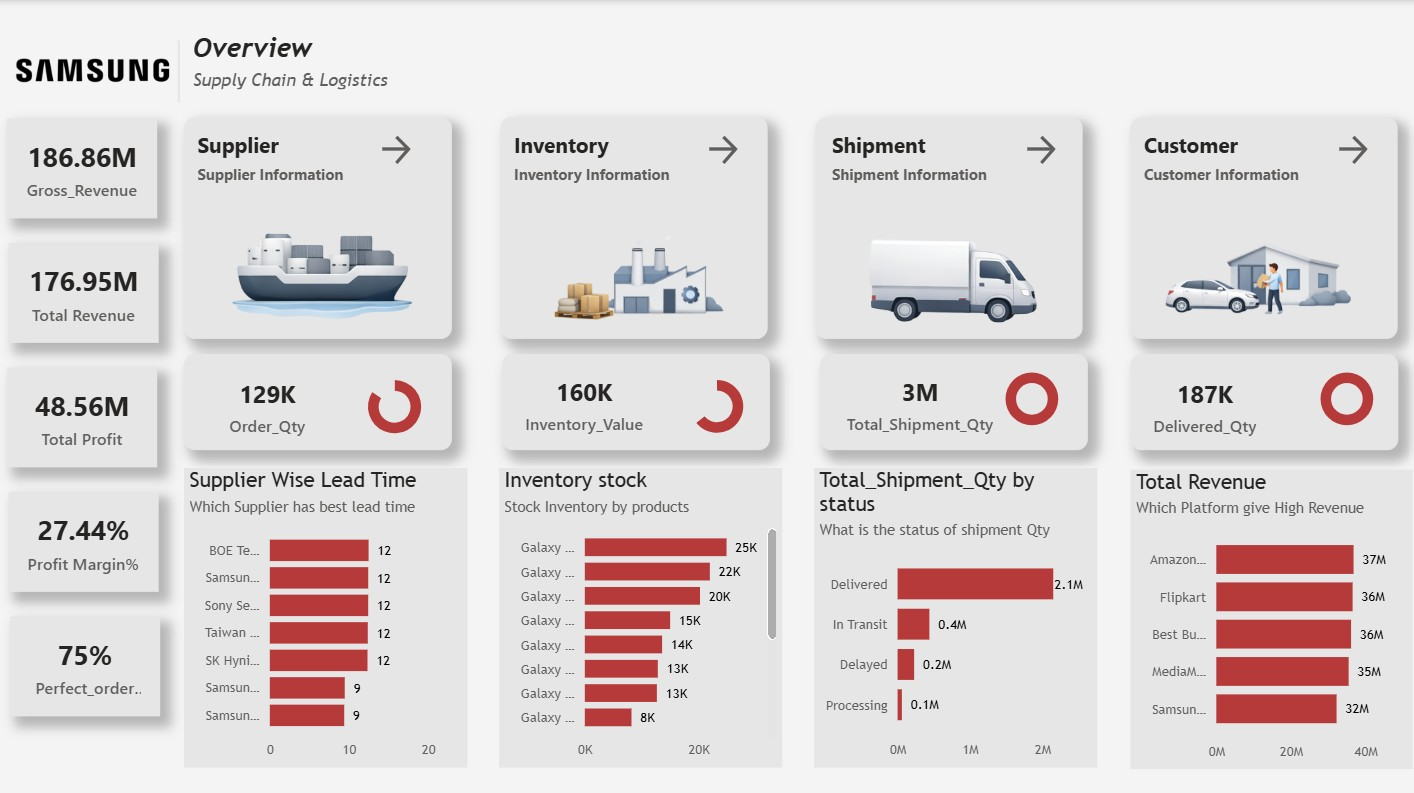

This screenshot's page, from the dashboard's own definition file:
{"tool":"powerbi","page":{"name":"Overview","canvas":[1280,720],"ordinal":0},"visuals":[{"type":"shape","box":[167.2,105.7,241.4,200],"z":0},{"type":"shape","box":[1020.7,105.9,240.8,200],"z":1000},{"type":"shape","box":[737.1,105.9,240.8,200],"z":2000},{"type":"shape","box":[452.4,105.9,240.8,200],"z":3000},{"type":"image","box":[187.7,179.9,200.4,119.9],"z":4000},{"type":"image","box":[471.7,186.2,200.4,119.9],"z":5000},{"type":"image","box":[758.9,186.2,200.4,119.9],"z":6000},{"type":"image","box":[1039.7,189.3,200.4,119.9],"z":7000},{"type":"actionButton","box":[1203.5,117.5,48,35],"z":8000},{"type":"actionButton","box":[921.8,117.5,48,35],"z":9000},{"type":"actionButton","box":[635.6,117.5,48,35],"z":10000},{"type":"actionButton","box":[340.4,117.5,48,35],"z":11000},{"type":"shape","title":"Supplier","box":[179.9,117.5,140.8,63.6],"z":12000},{"type":"shape","title":"Inventory","box":[464.5,117.5,171.1,63.6],"z":13000},{"type":"shape","title":"Shipment","box":[752.2,117.5,140.8,63.6],"z":14000},{"type":"shape","title":"Customer","box":[1032.4,117.5,140.8,63.6],"z":15000},{"type":"shape","title":"Overview","box":[175.6,28.8,196.8,72.7],"z":16000},{"type":"shape","box":[68.1,36.3,190.8,56],"z":17000},{"type":"image","box":[0,24.2,163.5,77.2],"z":18000},{"type":"cardVisual","fields":{"Data":["MeasuresTable.Total Revenue"]},"box":[9.5,218.8,135,90],"z":19000},{"type":"cardVisual","fields":{"Data":["MeasuresTable.Total Profit"]},"box":[8.2,331.2,135,90],"z":20000},{"type":"cardVisual","fields":{"Data":["MeasuresTable.Profit Margin%"]},"box":[8.8,443.7,135,90],"z":21000},{"type":"cardVisual","fields":{"Data":["MeasuresTable.Perfect_order%"]},"box":[10.2,556.2,135,90],"z":22000},{"type":"cardVisual","fields":{"Data":["MeasuresTable.Gross_Revenue"]},"box":[7.5,106.3,135,90],"z":23000},{"type":"shape","box":[167.4,318.7,241.5,86.5],"z":24000},{"type":"shape","box":[454.6,318.7,241.5,86.5],"z":25000},{"type":"shape","box":[740.2,318.7,241.5,86.5],"z":26000},{"type":"shape","box":[1020.9,318.7,241.5,86.5],"z":27000},{"type":"cardVisual","fields":{"Data":["MeasuresTable.Order_Qty"]},"box":[175.1,321.8,134.1,89.9],"z":28000},{"type":"cardVisual","fields":{"Data":["MeasuresTable.Inventory_Value"]},"box":[453.9,320.8,148.4,89.3],"z":29000},{"type":"cardVisual","fields":{"Data":["MeasuresTable.Total_Shipment_Qty"]},"box":[739.4,320.8,183,89.9],"z":30000},{"type":"cardVisual","fields":{"Data":["MeasuresTable.Delivered_Qty"]},"box":[1020.2,322.3,134.8,89.3],"z":31000},{"type":"clusteredBarChart","title":"Supplier Wise Lead Time","fields":{"Y":["MeasuresTable.Avg_lead_time"],"Category":["dim_supplier.supplier_name"]},"box":[167.2,421.2,255,270],"z":32000},{"type":"clusteredBarChart","title":"Inventory stock","fields":{"Category":["dim_product.product_name"],"Y":["MeasuresTable.Inventory_Value"]},"box":[451.6,421.8,255,270],"z":33000},{"type":"clusteredBarChart","fields":{"Y":["MeasuresTable.Total_Shipment_Qty"],"Category":["fact_shipment.status"]},"box":[735.9,422.3,255,270],"z":34000},{"type":"clusteredBarChart","title":"Total Revenue ","fields":{"Y":["MeasuresTable.Total Revenue"],"Category":["dim_customer.customer_name"]},"box":[1020.2,422.8,255,270],"z":35000},{"type":"donutChart","fields":{"Y":["MeasuresTable.Order_Qty","MeasuresTable.Defect_rate"]},"box":[309.2,331.3,95,70],"z":36000},{"type":"donutChart","fields":{"Y":["MeasuresTable.Inventory_Value","MeasuresTable.Saftey_Stock"]},"box":[599.5,331.3,94.7,69.4],"z":37000},{"type":"donutChart","fields":{"Y":["MeasuresTable.Total_Shipment_Qty"]},"box":[883.5,325,94.7,69.4],"z":38000},{"type":"donutChart","fields":{"Y":["MeasuresTable.Delivered_Qty"]},"box":[1167.5,325,94.7,69.4],"z":39000}]}

Visuals, with their boxes in screenshot pixels (x1, y1, x2, y2), scaled from the page's 1280x720 canvas onto the 1414x793 screenshot:
shape: 185, 116, 451, 337
shape: 1128, 117, 1394, 337
shape: 814, 117, 1080, 337
shape: 500, 117, 766, 337
image: 207, 198, 429, 330
image: 521, 205, 742, 337
image: 838, 205, 1060, 337
image: 1149, 208, 1370, 341
actionButton: 1329, 129, 1383, 168
actionButton: 1018, 129, 1071, 168
actionButton: 702, 129, 755, 168
actionButton: 376, 129, 429, 168
"Supplier" shape: 199, 129, 354, 199
"Inventory" shape: 513, 129, 702, 199
"Shipment" shape: 831, 129, 986, 199
"Customer" shape: 1140, 129, 1296, 199
"Overview" shape: 194, 32, 411, 112
shape: 75, 40, 286, 102
image: 0, 27, 181, 112
cardVisual - MeasuresTable.Total Revenue: 10, 241, 160, 340
cardVisual - MeasuresTable.Total Profit: 9, 365, 158, 464
cardVisual - MeasuresTable.Profit Margin%: 10, 489, 159, 588
cardVisual - MeasuresTable.Perfect_order%: 11, 613, 160, 712
cardVisual - MeasuresTable.Gross_Revenue: 8, 117, 157, 216
shape: 185, 351, 452, 446
shape: 502, 351, 769, 446
shape: 818, 351, 1084, 446
shape: 1128, 351, 1395, 446
cardVisual - MeasuresTable.Order_Qty: 193, 354, 342, 453
cardVisual - MeasuresTable.Inventory_Value: 501, 353, 665, 452
cardVisual - MeasuresTable.Total_Shipment_Qty: 817, 353, 1019, 452
cardVisual - MeasuresTable.Delivered_Qty: 1127, 355, 1276, 453
"Supplier Wise Lead Time" clusteredBarChart: 185, 464, 466, 761
"Inventory stock" clusteredBarChart: 499, 465, 781, 762
clusteredBarChart - MeasuresTable.Total_Shipment_Qty x fact_shipment.status: 813, 465, 1095, 762
"Total Revenue " clusteredBarChart: 1127, 466, 1409, 763
donutChart - MeasuresTable.Order_Qty x MeasuresTable.Defect_rate: 342, 365, 447, 442
donutChart - MeasuresTable.Inventory_Value x MeasuresTable.Saftey_Stock: 662, 365, 767, 441
donutChart - MeasuresTable.Total_Shipment_Qty: 976, 358, 1081, 434
donutChart - MeasuresTable.Delivered_Qty: 1290, 358, 1394, 434
